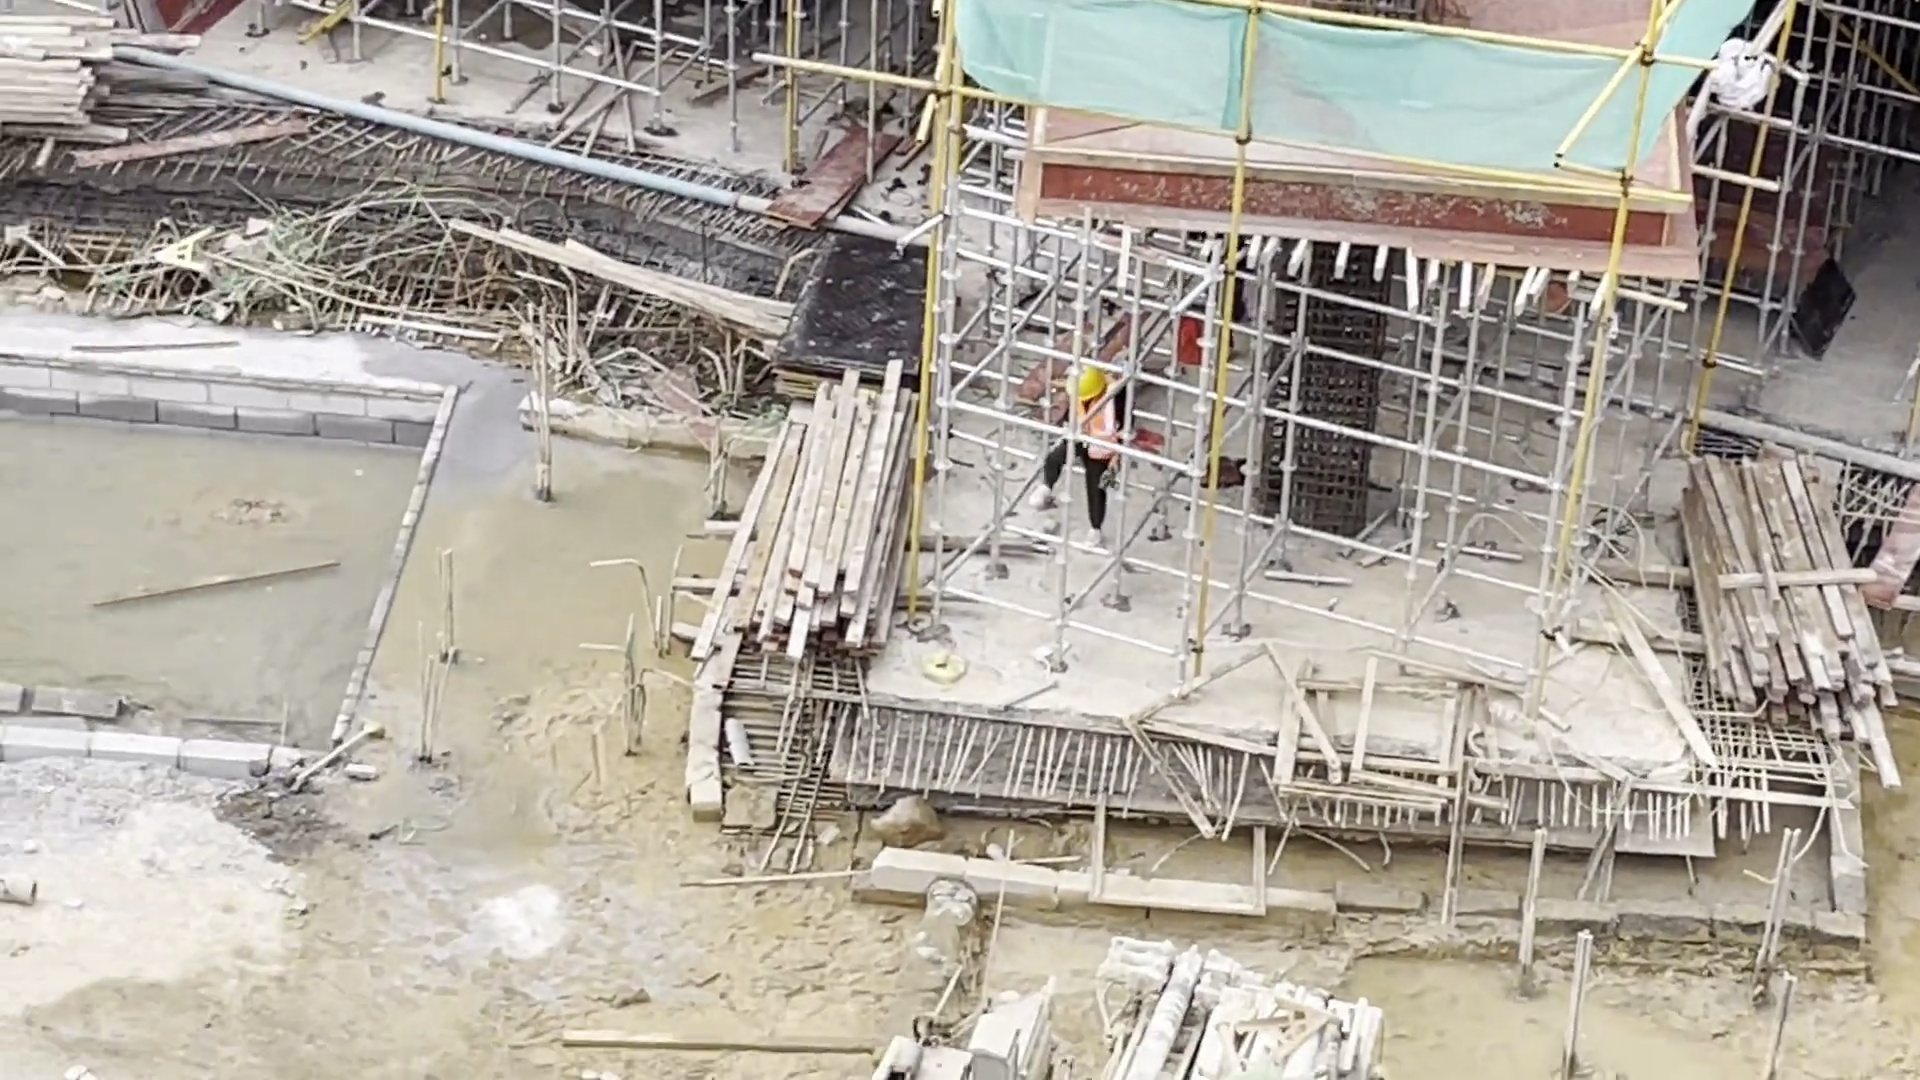board: (773, 236, 940, 397)
helmet: (1078, 367, 1108, 403)
person: (1029, 365, 1133, 546)
wood: (1671, 445, 1895, 790), (693, 356, 928, 659), (1, 1, 138, 156)
